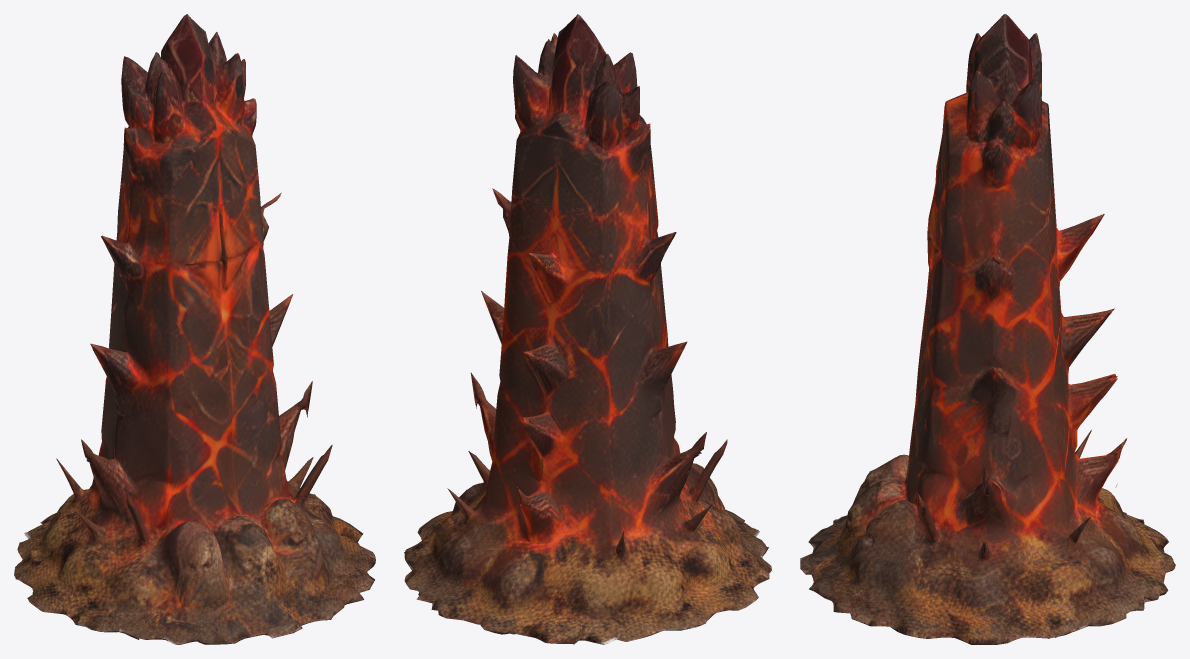
The picture shows the model from 3 angles, left to right: view 1: azimuth 30°, elevation 25°; view 2: azimuth 150°, elevation 25°; view 3: azimuth 270°, elevation 25°; orthographic projection.
Visible parts, largest first — view 1: C_Body; view 2: C_Body; view 3: C_Body.
Boxes of the visible parts, x1,y1,x2,y2 form: C_Body: (14,14,375,644); C_Body: (404,14,771,644); C_Body: (800,14,1175,644).
Bounding box in the file's own units: 2.03 × 3.3 × 2.03.
Materials: 1 (1 with a texture image).
